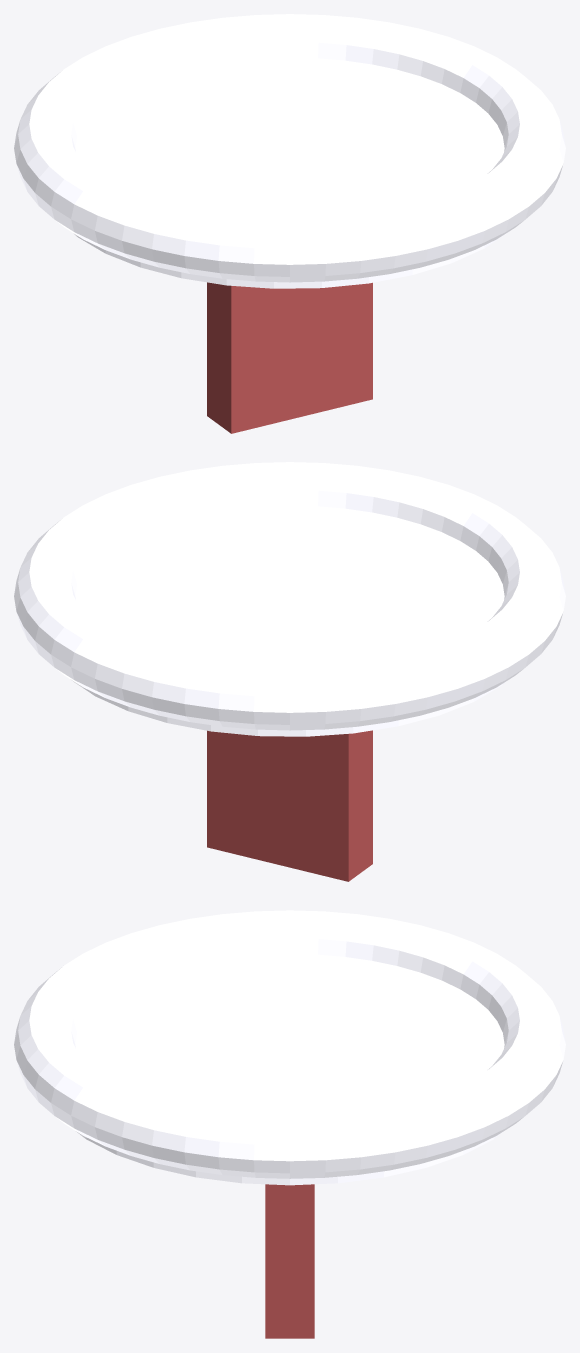
File: badge_silver.glb
The picture shows the model from 3 angles, top to bottom: view 1: azimuth 30°, elevation 25°; view 2: azimuth 150°, elevation 25°; view 3: azimuth 270°, elevation 25°; orthographic projection.
Visible parts, largest first — view 1: Torus.006, Cylinder, Cube, Cone; view 2: Torus.006, Cylinder, Cube, Cone; view 3: Torus.006, Cylinder, Cone, Cube.
Part boxes in pixels (x1,y1,x2,y2): Torus.006: (14,14,565,282); Cylinder: (74,57,507,288); Cube: (207,282,372,433); Cone: (170,103,401,199); Torus.006: (14,462,565,730); Cylinder: (72,505,505,736); Cube: (207,730,372,881); Cone: (170,544,401,640); Torus.006: (14,910,565,1178); Cylinder: (75,954,504,1185); Cone: (190,995,412,1093); Cube: (265,1184,314,1338).
Bounding box in the file's own units: 0.27 × 0.155 × 0.27.
